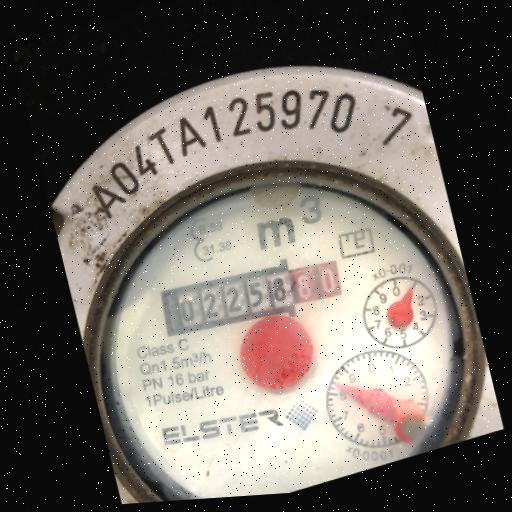0: (312, 258, 344, 301), (173, 287, 205, 329)
2: (218, 278, 249, 320), (196, 282, 226, 324)
5: (242, 274, 272, 316)
8: (265, 268, 296, 311), (289, 264, 319, 305)
border_water_meter_number: (156, 236, 353, 354)
